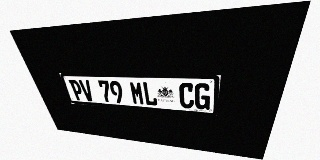7: (97, 80, 114, 103)
9: (108, 81, 125, 104)
C: (179, 83, 194, 109)
G: (194, 83, 211, 110)
L: (142, 82, 158, 106)
M: (129, 81, 145, 105)
P: (68, 80, 85, 101)
V: (78, 80, 95, 101)
